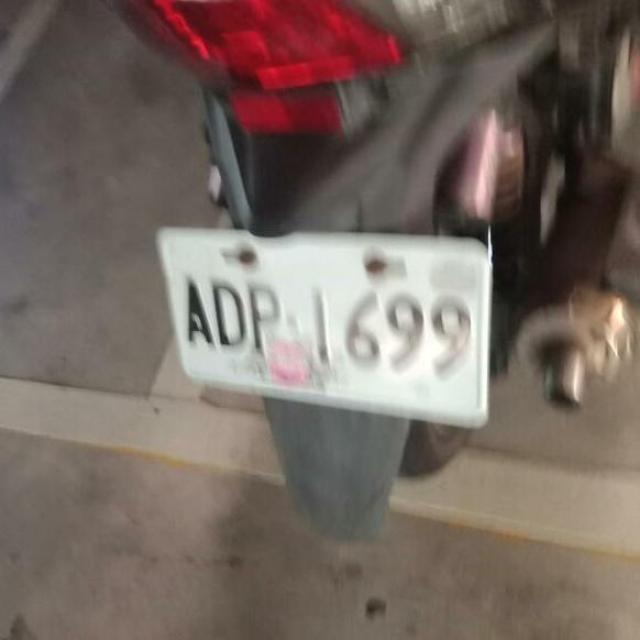W: (145, 195, 504, 445)
